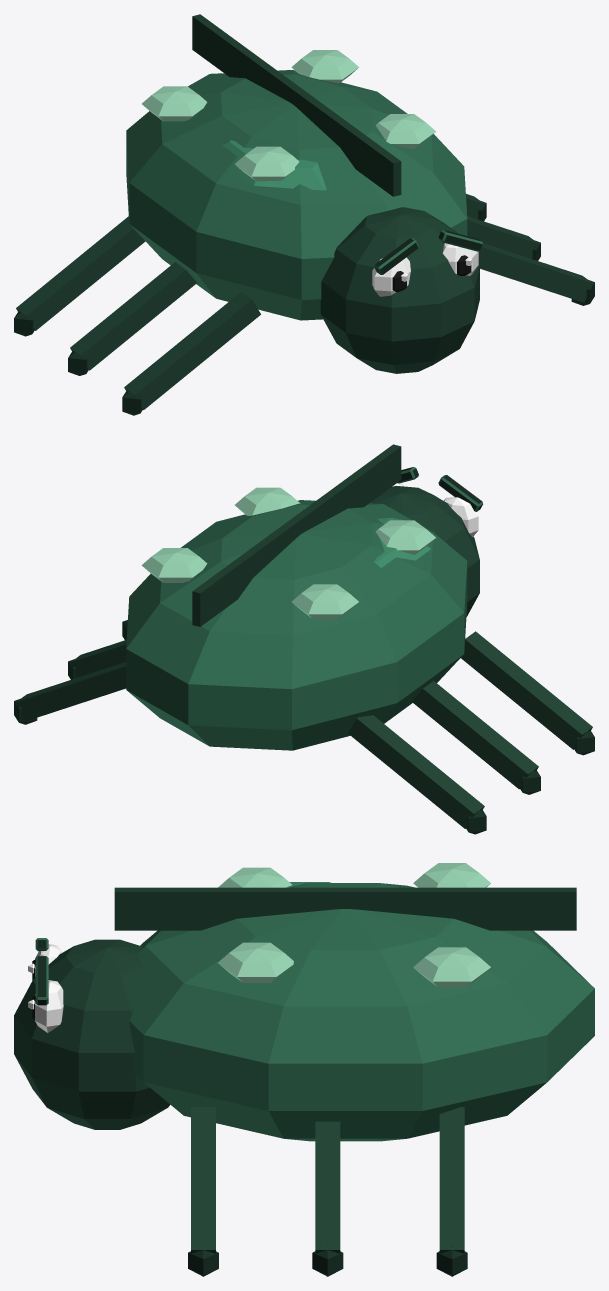
Rendered from kaefer.glb.
3 views of the same model, one above another, from view 1: azimuth 30°, elevation 25°; view 2: azimuth 150°, elevation 25°; view 3: azimuth 270°, elevation 25° (orthographic). The views are drawn at different scales.
Visible parts, largest first — view 1: body-m, leg-0-m, leg-1-m; view 2: body-m, leg-0-m, leg-1-m; view 3: body-m, leg-1-m.
Part boxes in pixels (x1=…): body-m: x1=126, y1=14, x2=482, y2=373; leg-0-m: x1=14, y1=216, x2=260, y2=415; leg-1-m: x1=466, y1=194, x2=594, y2=305; body-m: x1=126, y1=444, x2=482, y2=750; leg-0-m: x1=348, y1=631, x2=594, y2=834; leg-1-m: x1=14, y1=620, x2=127, y2=724; body-m: x1=14, y1=863, x2=594, y2=1141; leg-1-m: x1=188, y1=1107, x2=467, y2=1276.
Size of the model in its own units: 1.77 by 0.81 by 1.64.
